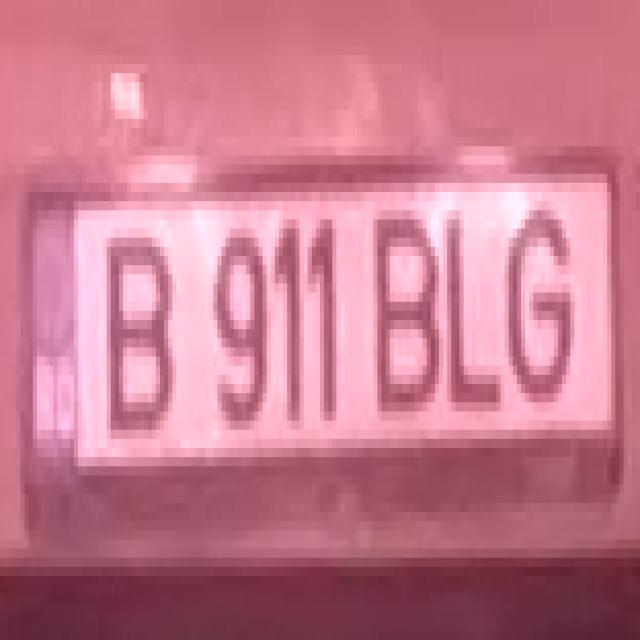EU: (20, 174, 622, 494)
Romanie: (28, 195, 78, 482)
